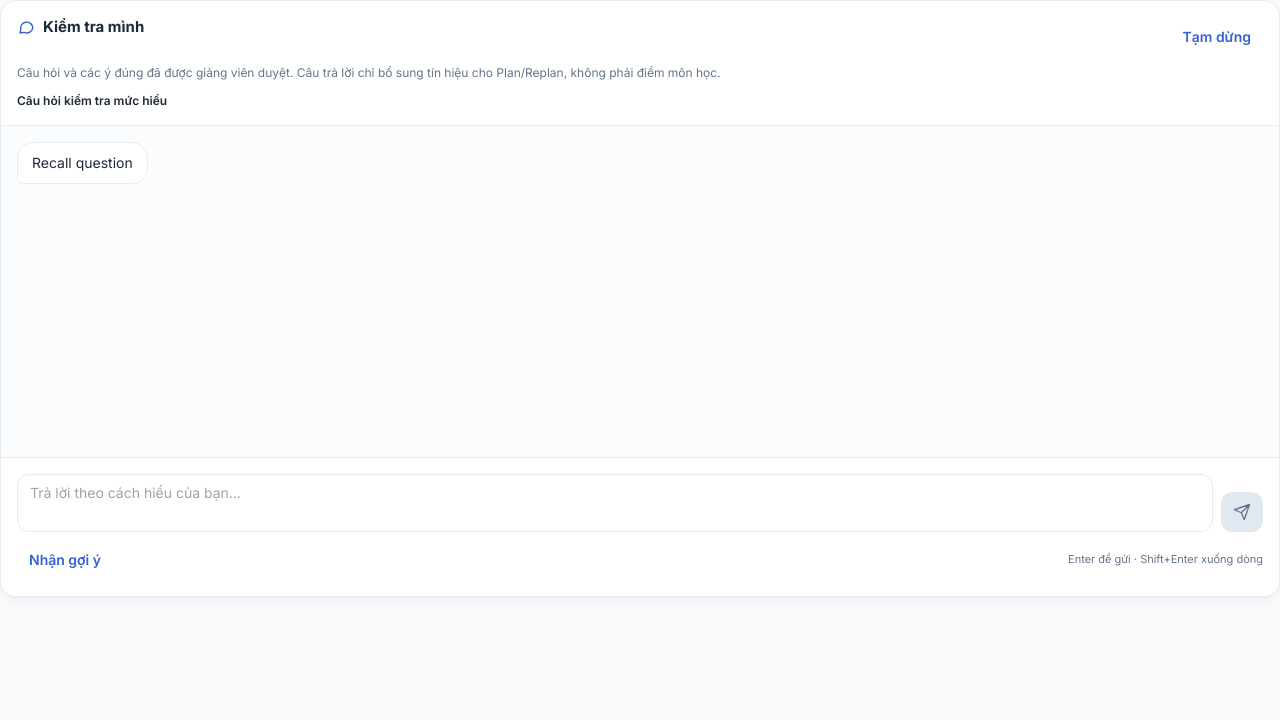
Test: Adaptive Do checkpoint › does not imply success when the answer needs support
Type "An answer about another question" into the text box named "Trả lời bằng lời của bạn" at (615, 503), box [17,474,1213,532]
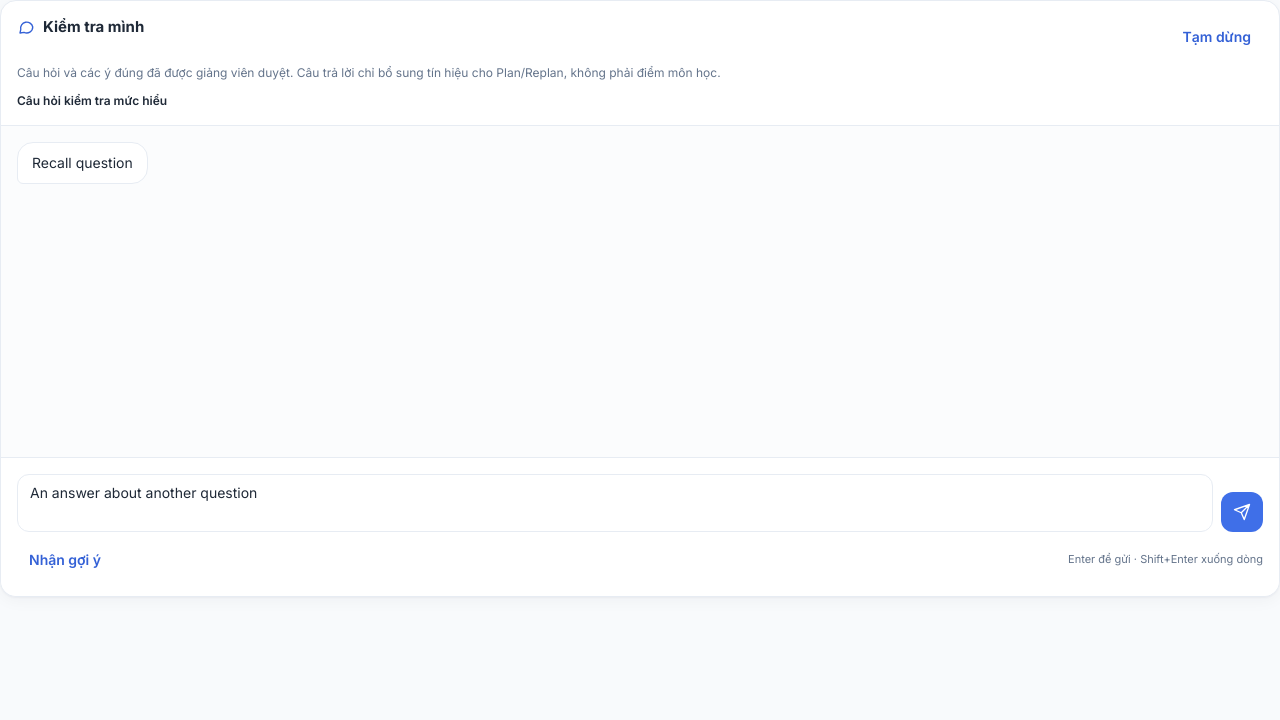
Click the button named "Gửi câu trả lời" at (1242, 512), box [1221,492,1263,532]
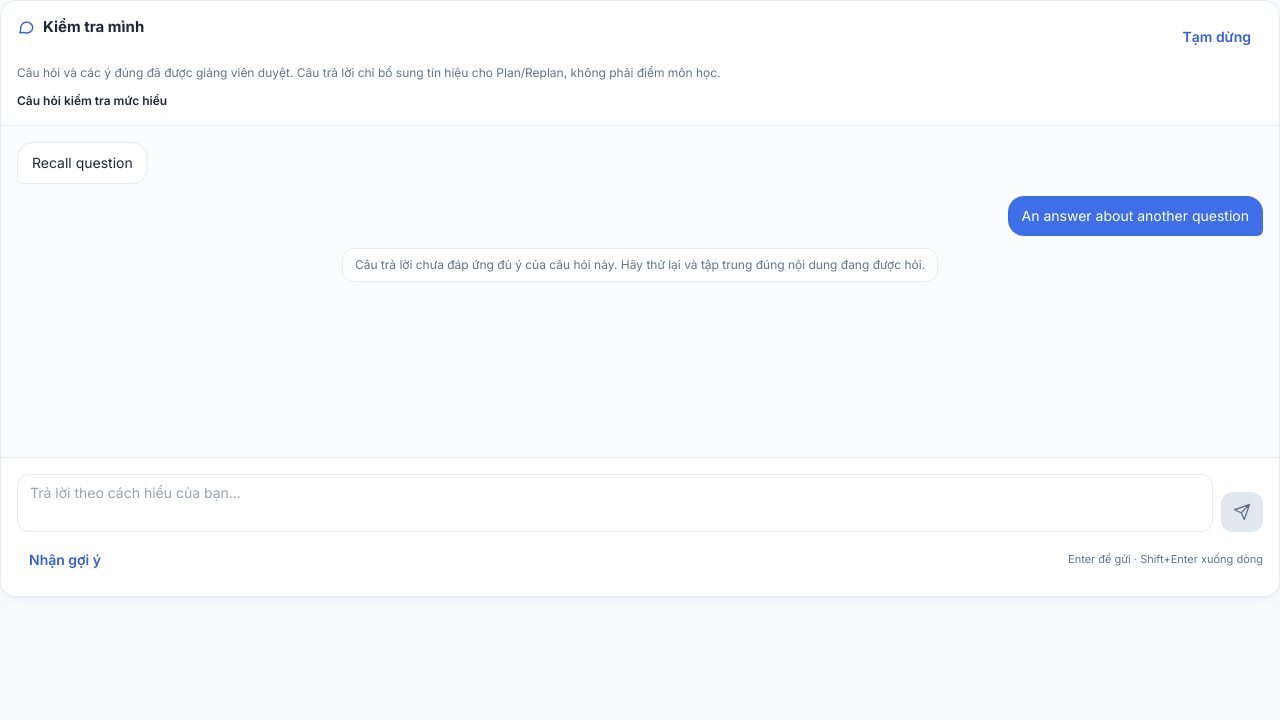
Check: the text "chưa đáp ứng đủ ý của câu hỏi này" is shown, box [355,257,925,272]
